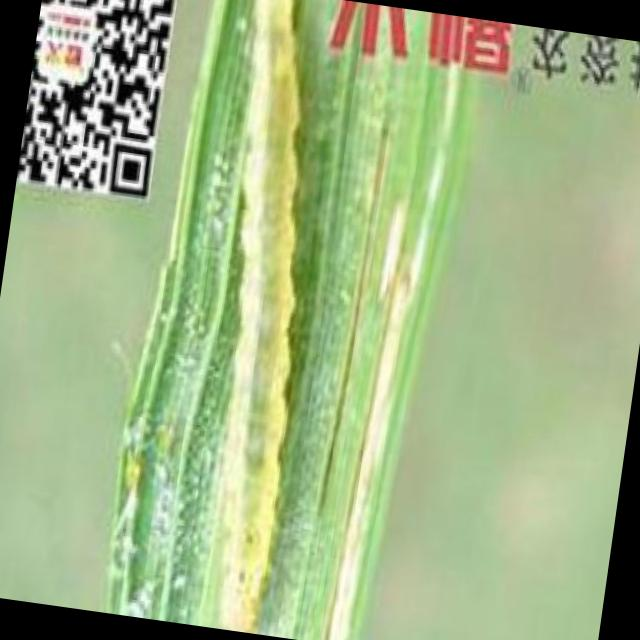leaf-folder: (151, 2, 354, 636)
